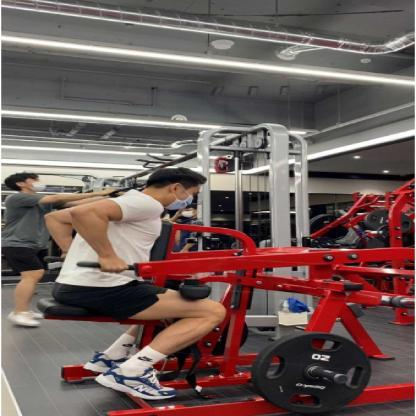seated dip machine: (29, 152, 415, 416)
